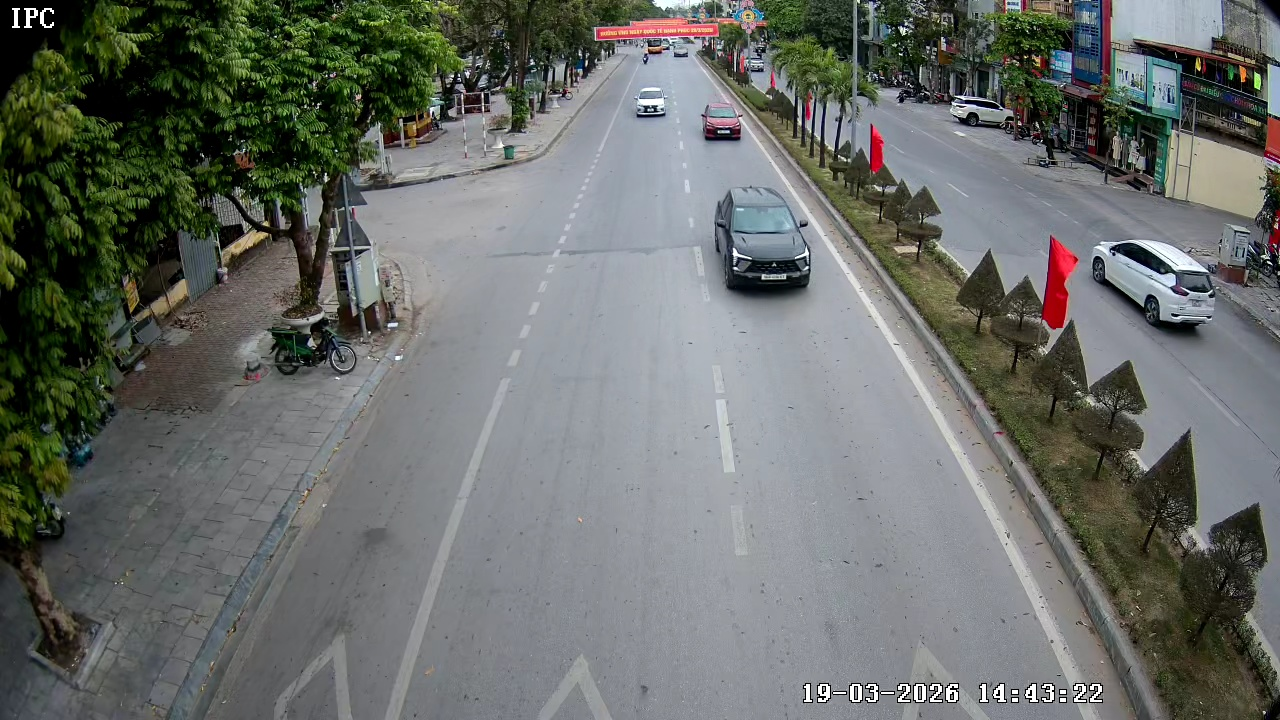car: (1090, 235, 1218, 331), (712, 186, 813, 292), (699, 100, 743, 143), (632, 86, 669, 120)
motorbike: (264, 314, 359, 378)
